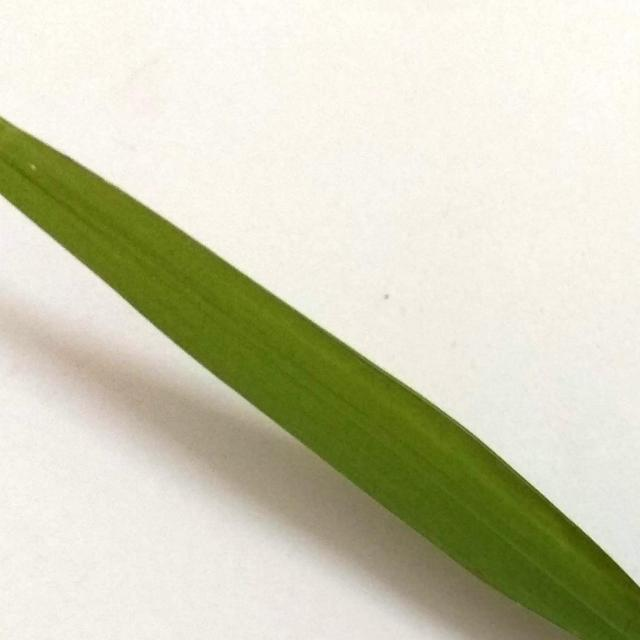healthy: (0, 107, 640, 640)
